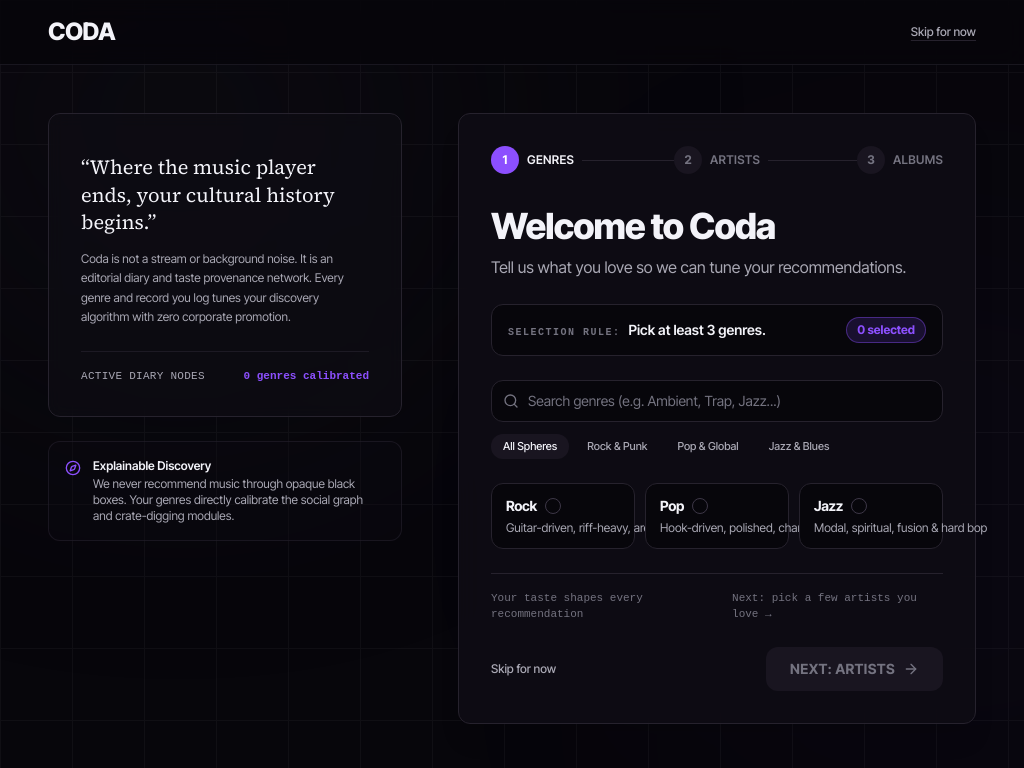
Test: OnboardingWizard › keeps the genres Next CTA disabled until MIN_GENRES are selected, matching the real rule
Check: the button "Next: Artists" is disabled, box [766,646,943,690]
Click the text "Rock" at (521, 506), box [506,496,537,516]
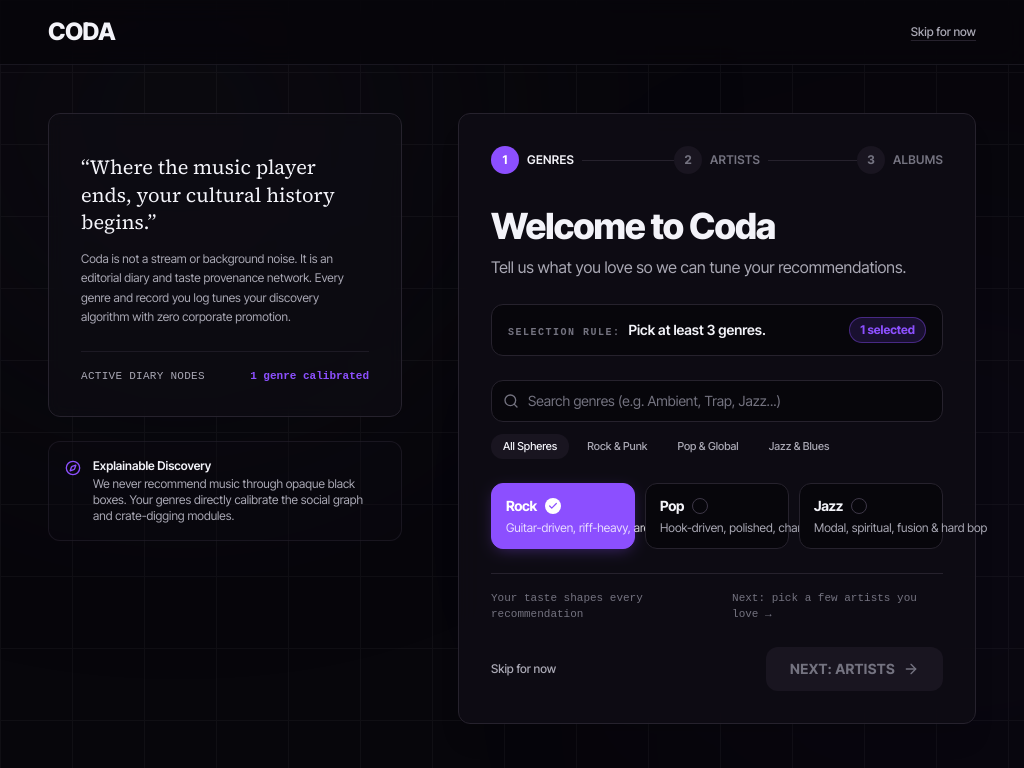
Click the text "Pop" at (672, 506), box [660,496,684,516]
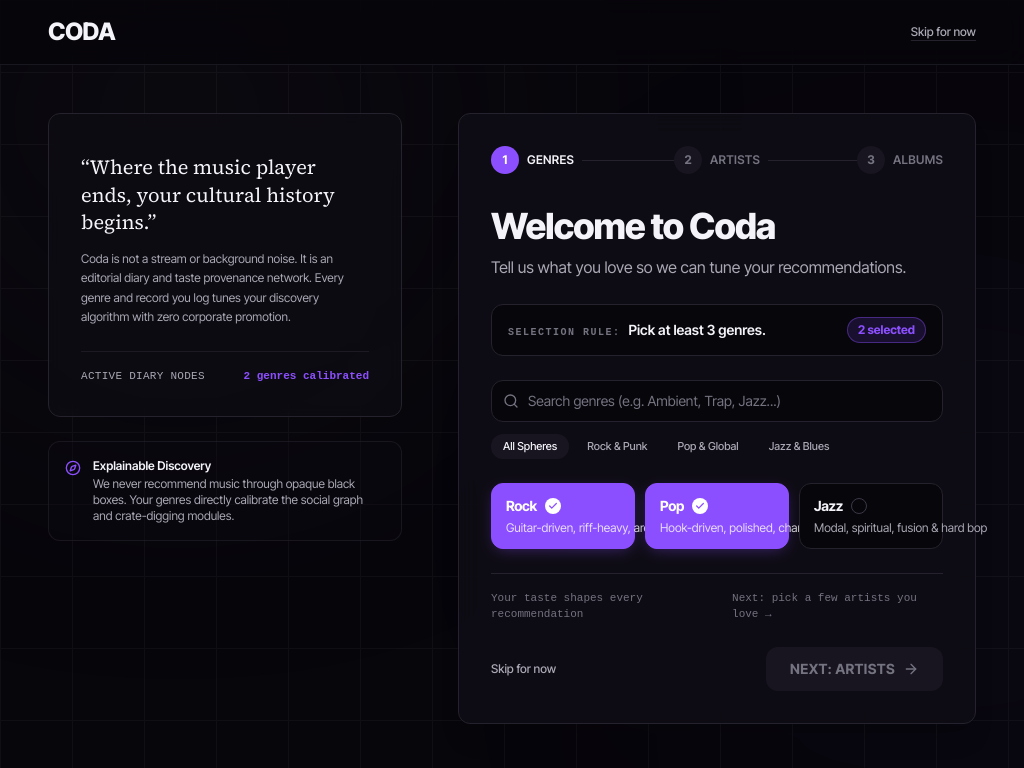
Check: the button "Next: Artists" is disabled, box [766,646,943,690]
Click the text "Jazz" at (828, 506), box [814,496,843,516]
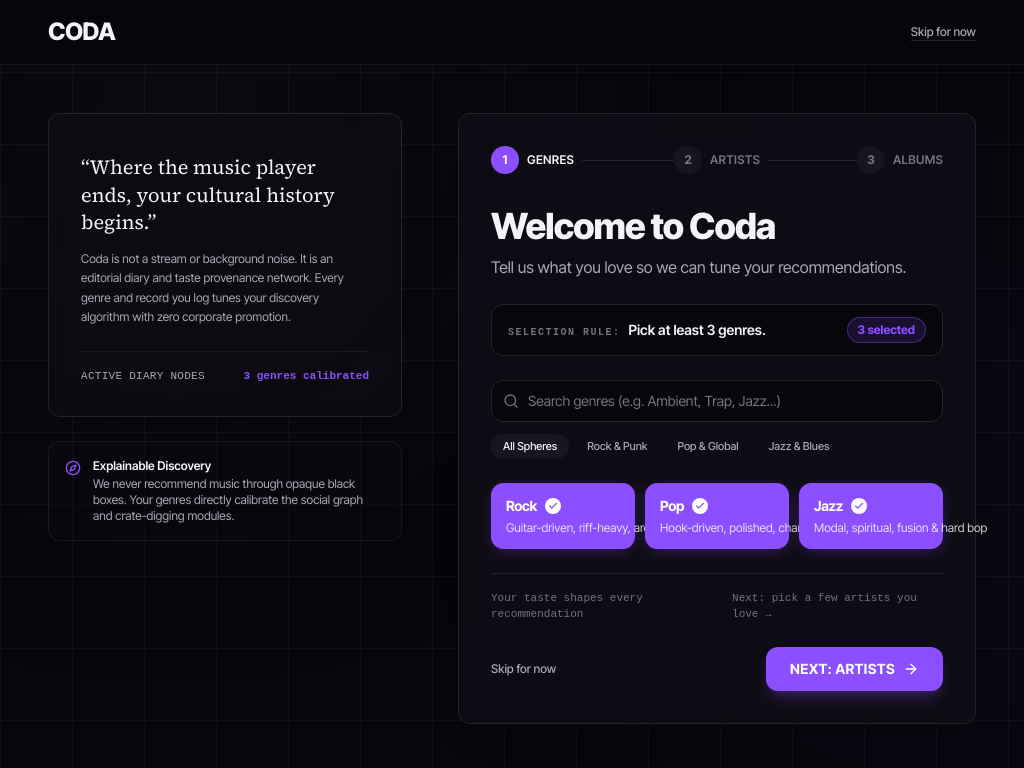
Check: the button "Next: Artists" is enabled, box [766,646,943,690]
